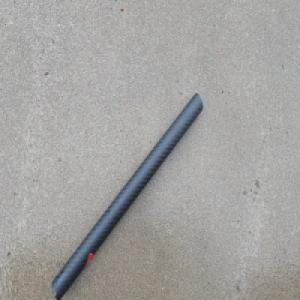LuggagePart: (50, 91, 203, 300)
